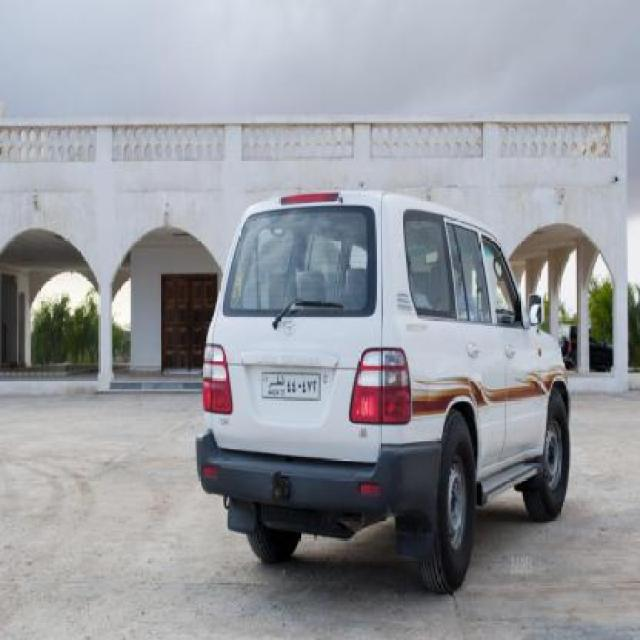Licenseplate: (256, 368, 322, 404)
